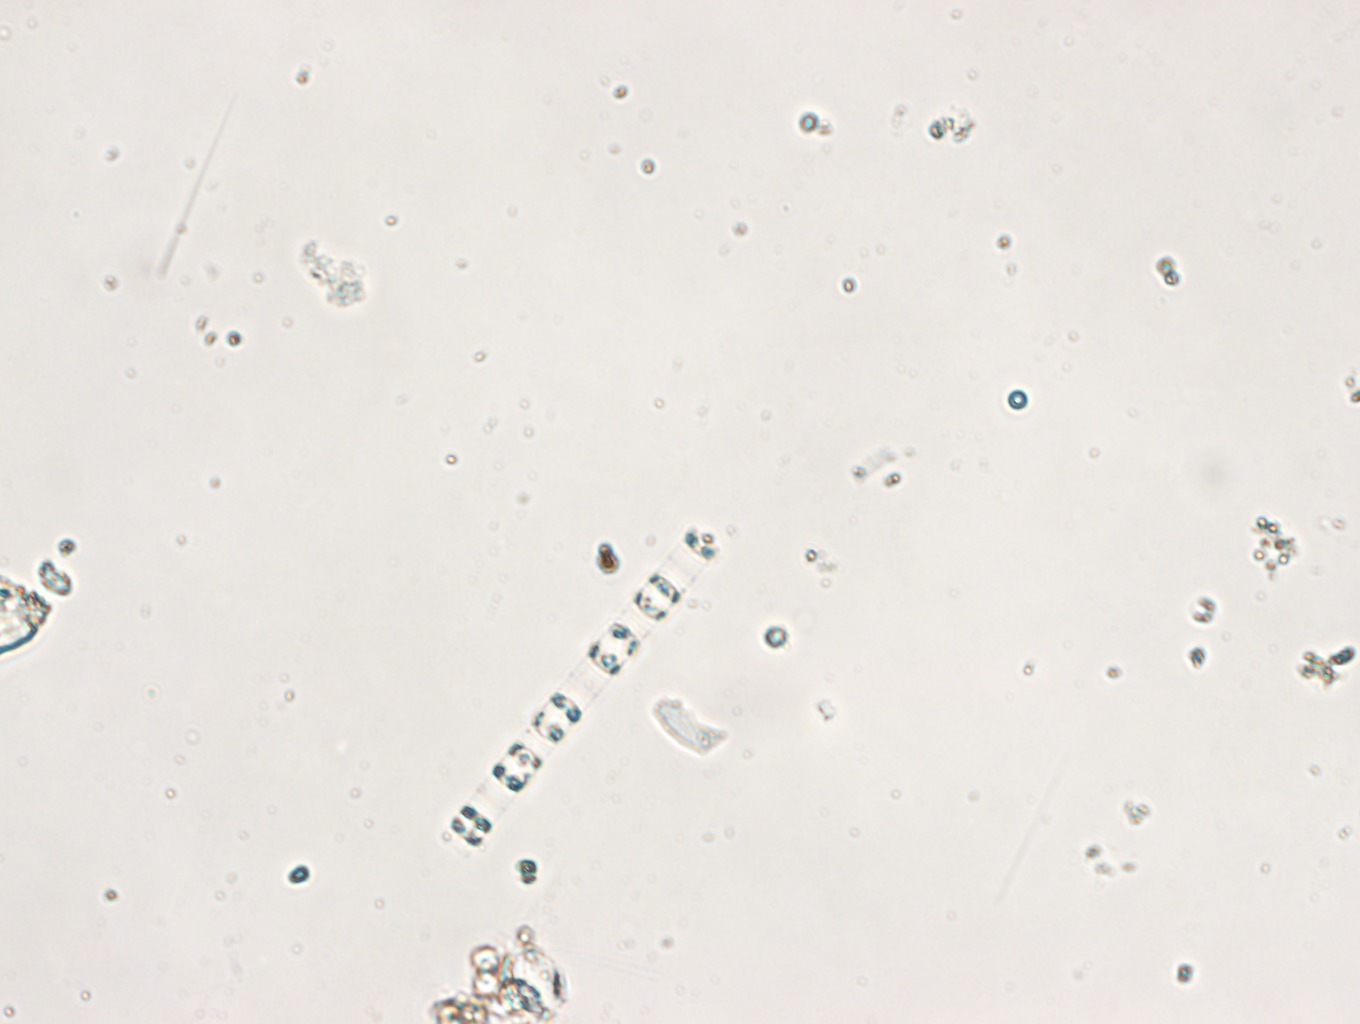skeletonema: (450, 522, 712, 855)
